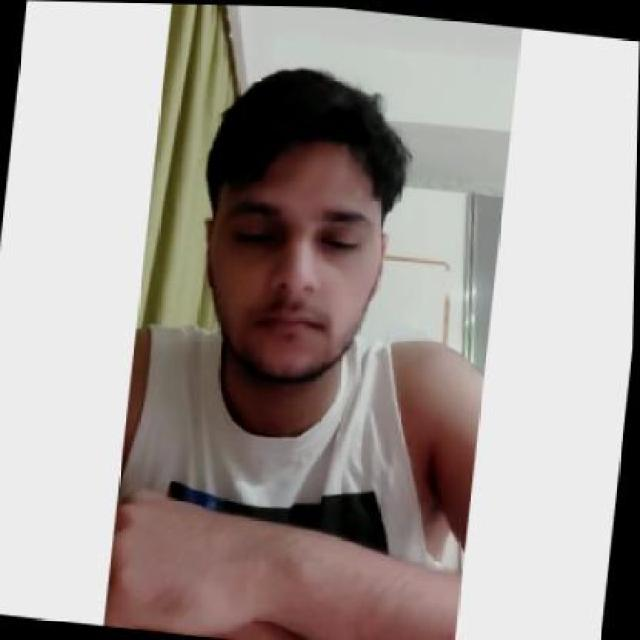inattentif: (188, 60, 403, 395)
